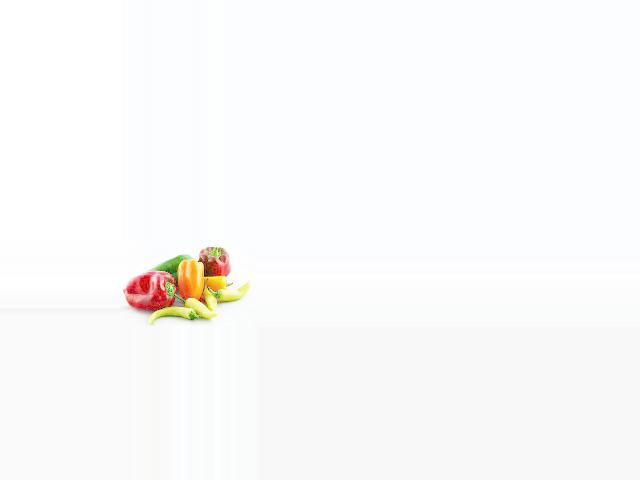bell_pepper: (144, 307, 203, 323)
